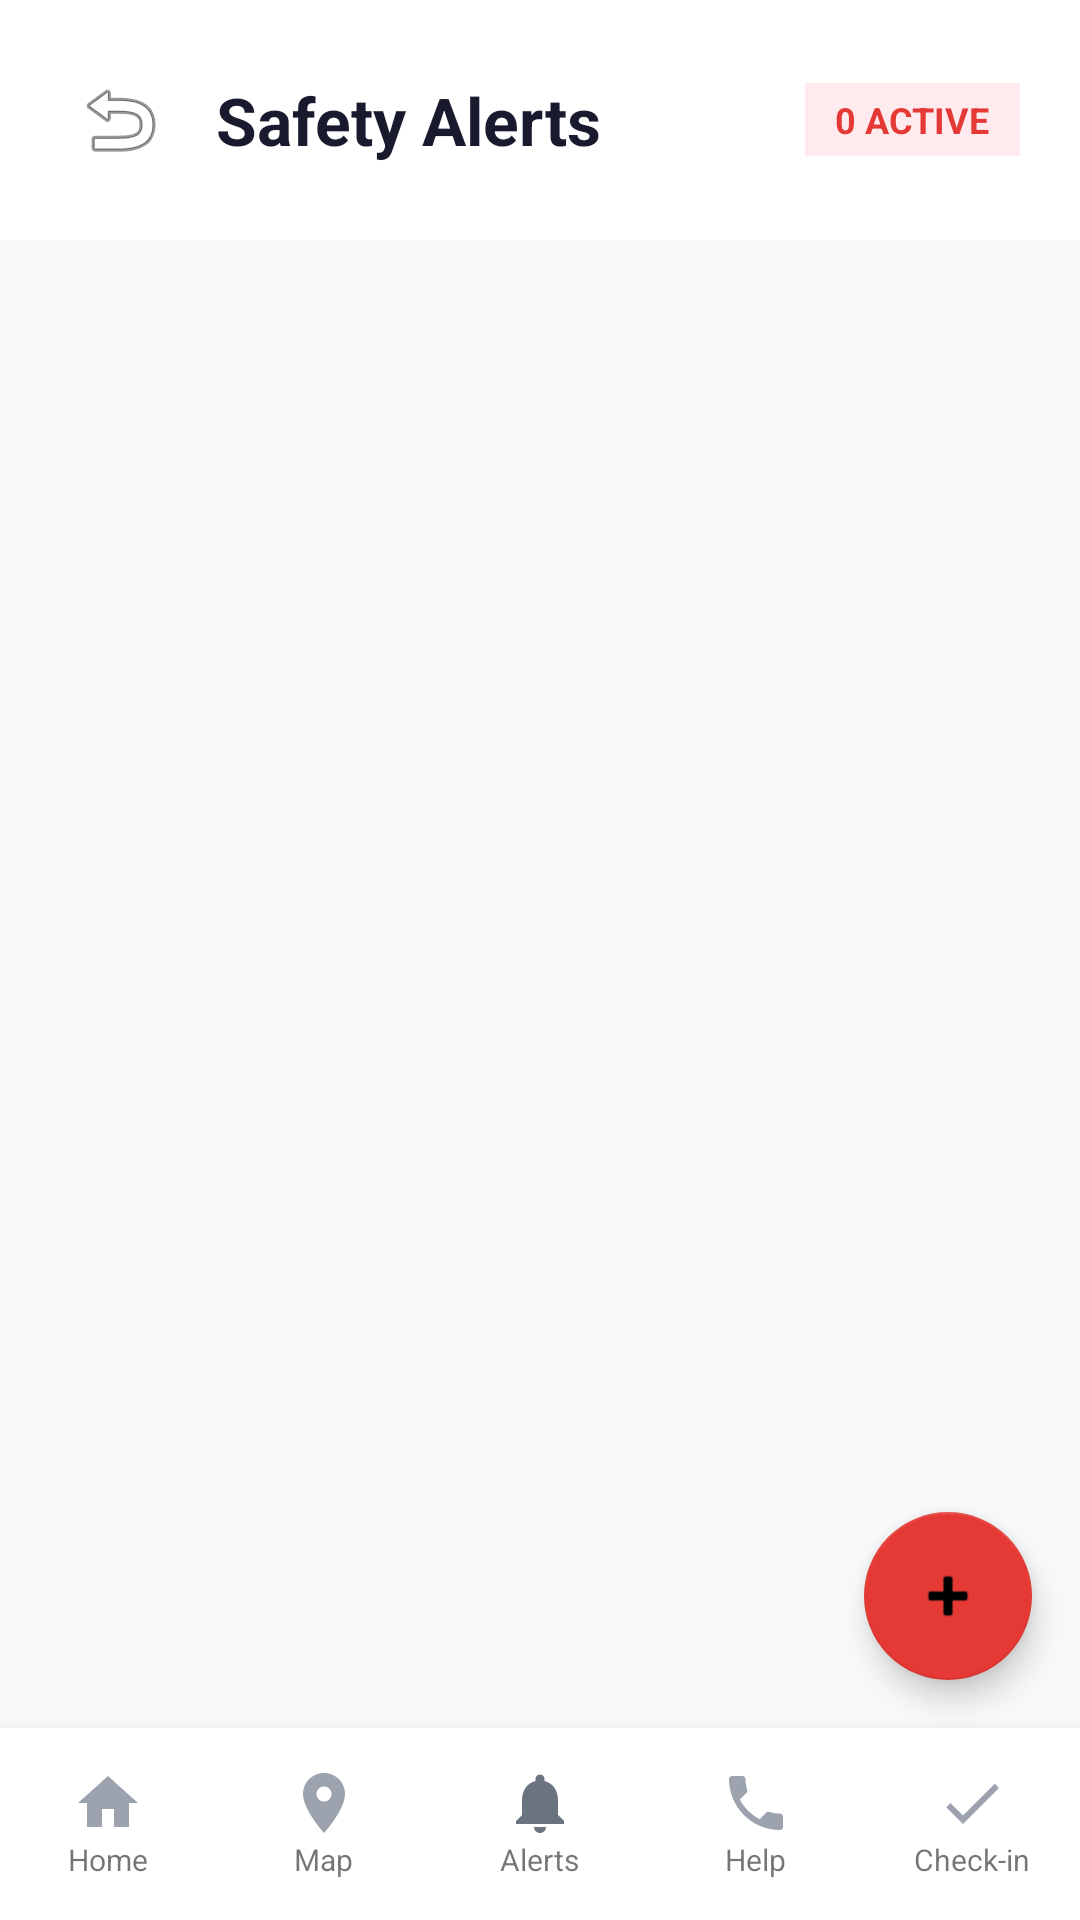

Icon bounding boxes for this 1080px×1920px phone screenshot, format (x1, y1, x2, y2):
Back: (87, 89, 156, 152)
Report incident: (864, 1512, 1032, 1680)
